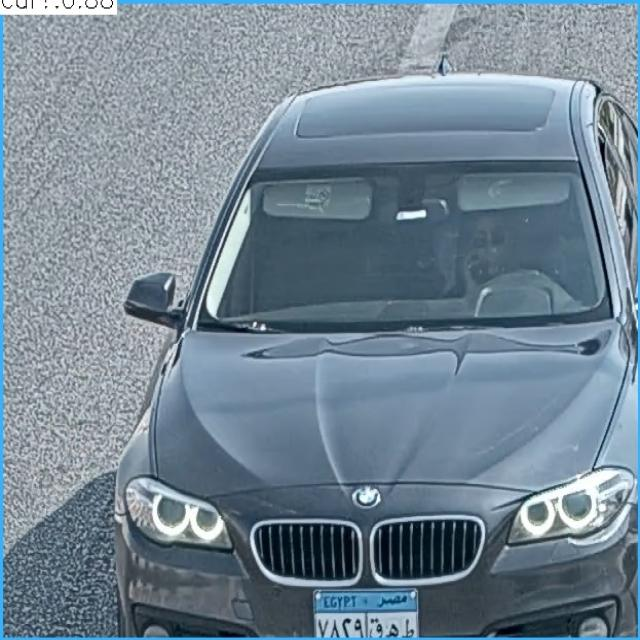windshield: (194, 168, 611, 326)
